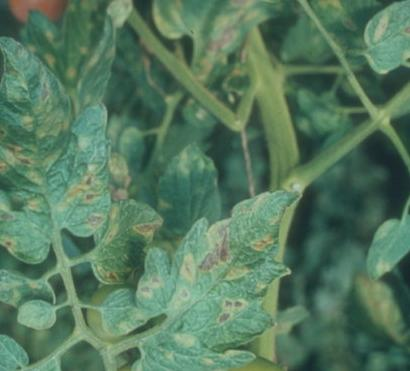Tomato mold leaf: (104, 187, 315, 371), (0, 30, 115, 264), (355, 0, 410, 75), (365, 205, 410, 287), (14, 293, 61, 331)
